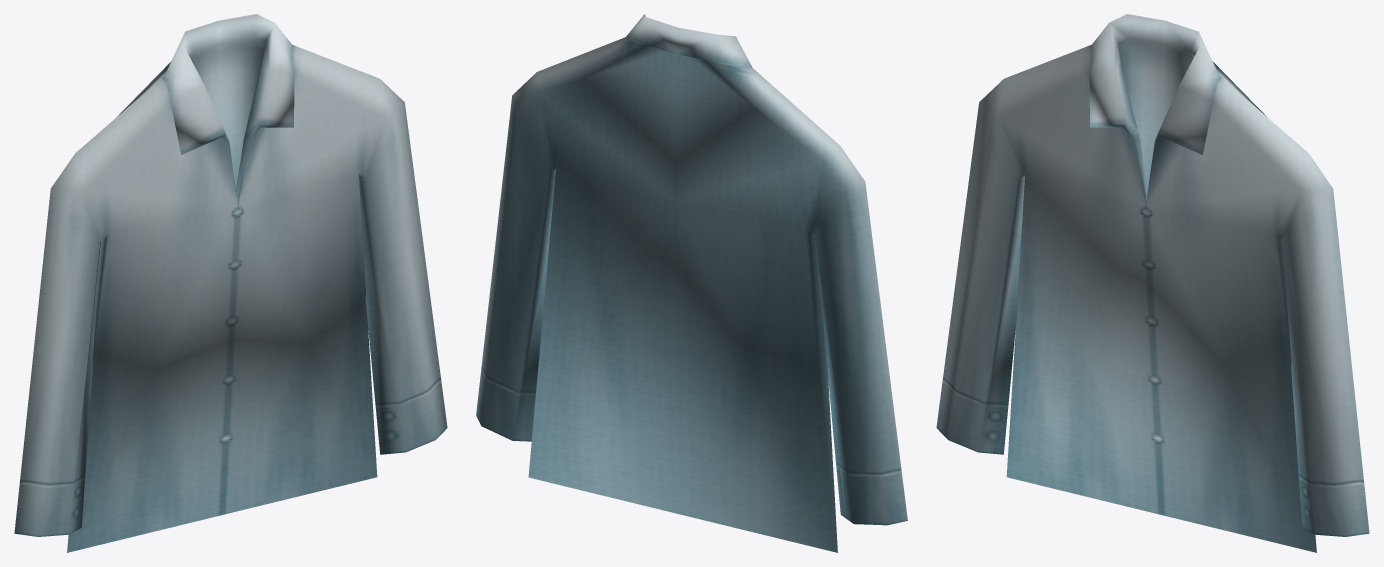
Rendered from G_DanShenHan_yifu_04.FBX.
The picture shows the model from 3 angles, left to right: view 1: azimuth 30°, elevation 25°; view 2: azimuth 150°, elevation 25°; view 3: azimuth 330°, elevation 25°; orthographic projection.
Visible parts, largest first — view 1: DanShenHan_yifu_04; view 2: DanShenHan_yifu_04; view 3: DanShenHan_yifu_04.
Part boxes in pixels (box(x1,y1,x2,y2)): DanShenHan_yifu_04: box(14, 14, 447, 552); DanShenHan_yifu_04: box(476, 14, 907, 552); DanShenHan_yifu_04: box(936, 14, 1369, 552).
Bounding box in the file's own units: 124 × 134 × 13.74.
